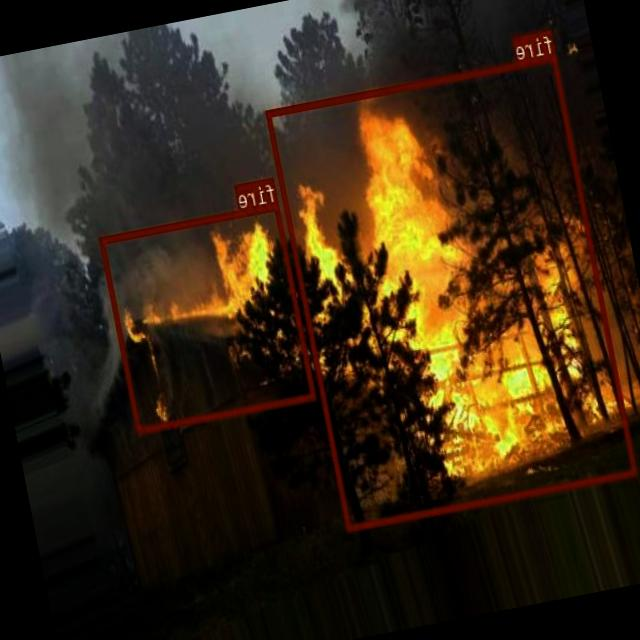fire: (266, 52, 640, 531), (100, 202, 317, 432)
